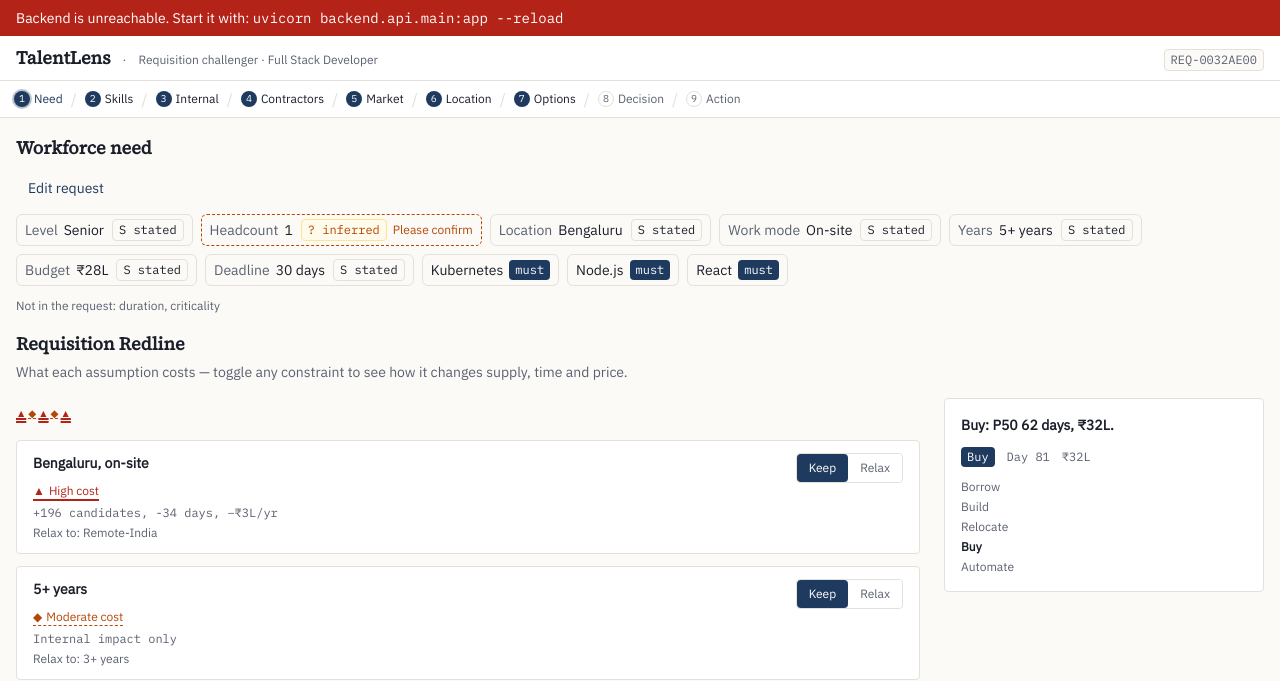
Test: Step navigation › Back button navigates to previous step
Click the button "3 Internal" at (187, 99), box [150,81,225,117]
(page scrolled)
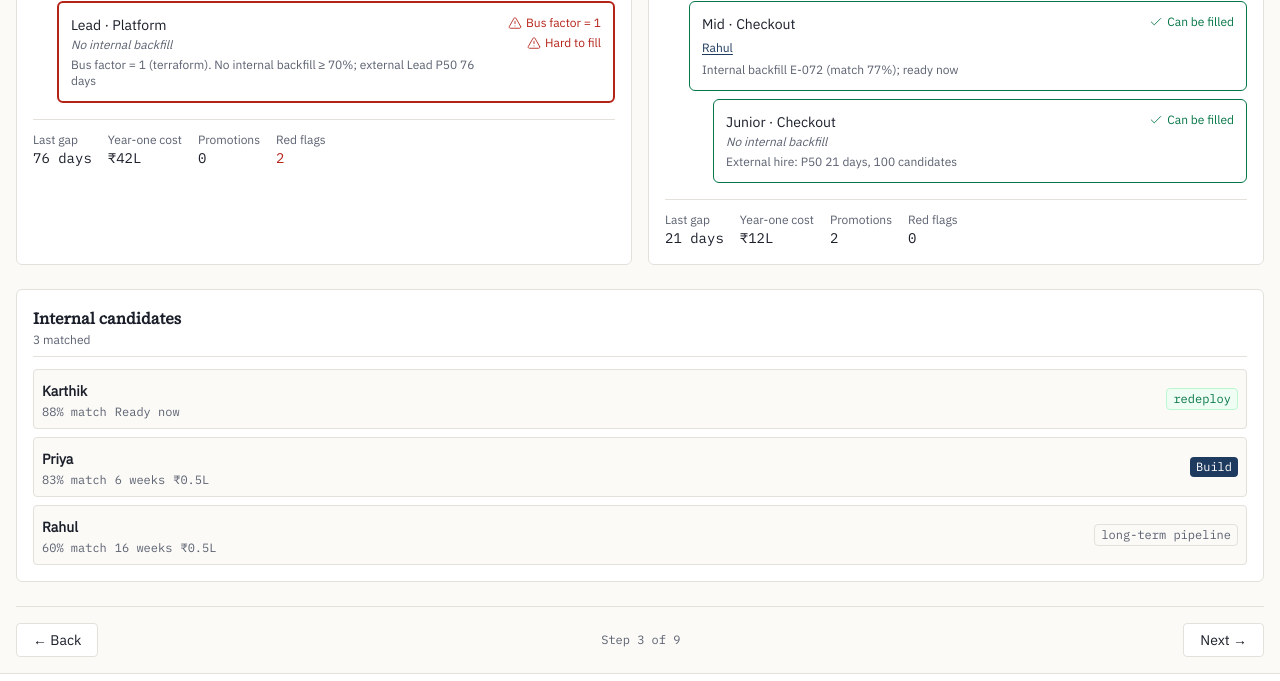
// Click Back
Click the button "← Back" at (57, 640), box [16,623,98,657]
(page scrolled)
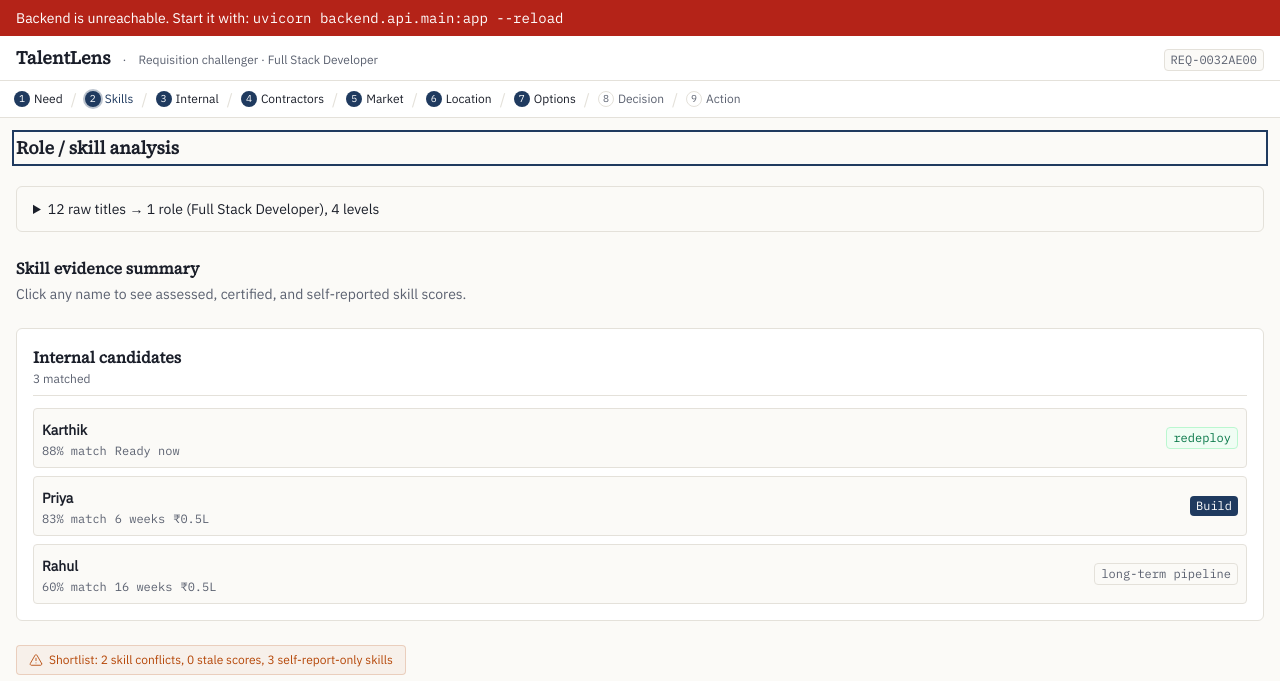
Check: the heading "Role / skill analysis" is shown, box [16,135,179,160]
